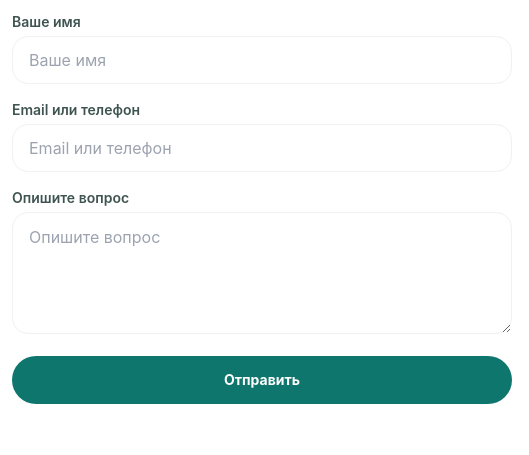
Test: SupportForm › 429 показывает текст про превышение лимита, форма остаётся заполненной
Step 1. Type "Иван" into the field with placeholder "Ваше имя" → (262, 60), box [12,36,512,84]
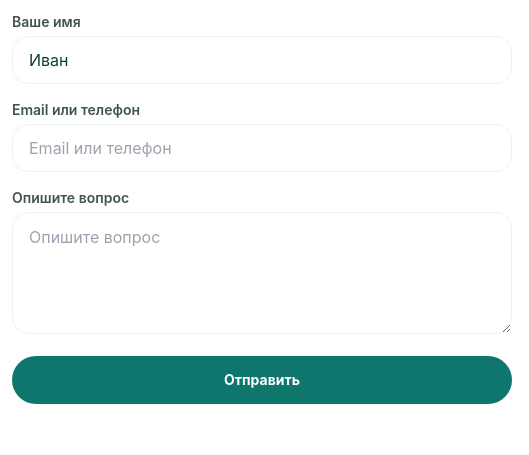
Step 2. Type "ivan@example.com" into the field with placeholder "Email или телефон" → (262, 148), box [12,124,512,172]
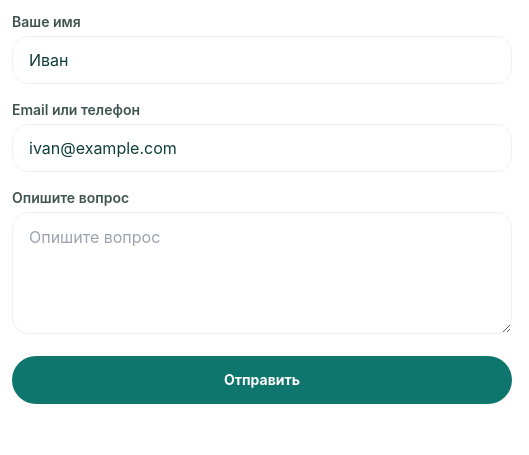
Step 3. Type "Вопрос" into the text box with placeholder "Опишите вопрос" → (262, 273), box [12,212,512,334]
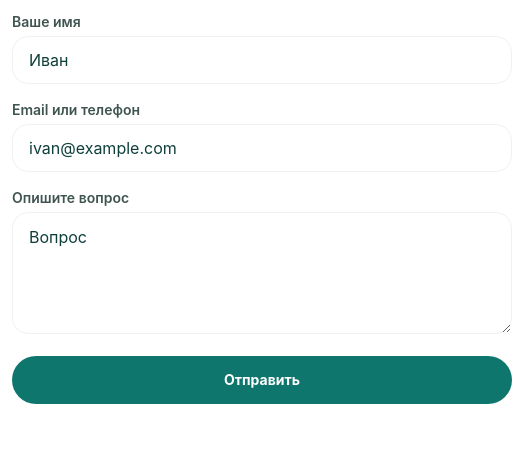
Step 4. Click the button "Отправить" → (262, 380), box [12,356,512,404]
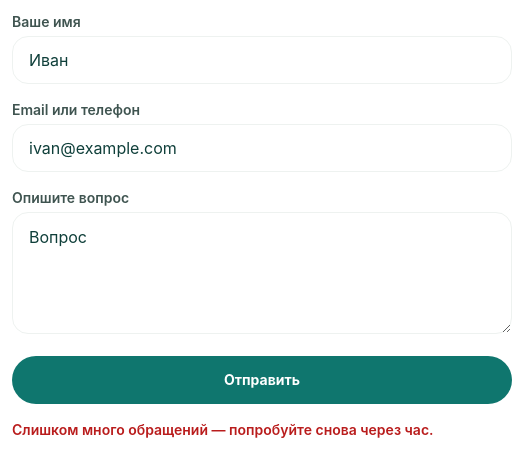
Expected: the text "Слишком много обращений — попробуйте снова через час." is shown, [12,421,434,438]
